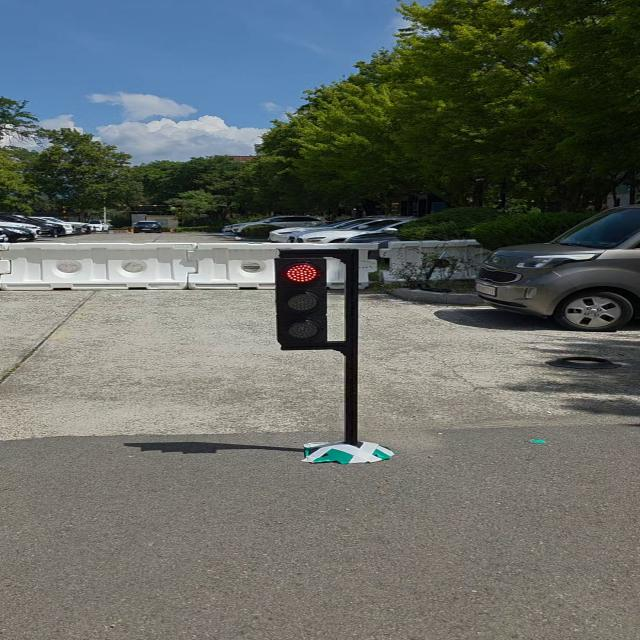red: (270, 255, 332, 351)
